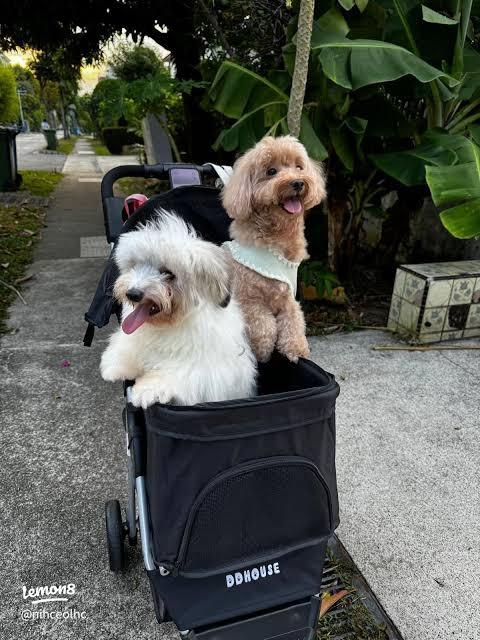adult_dog: (101, 211, 259, 408), (217, 136, 328, 364)
